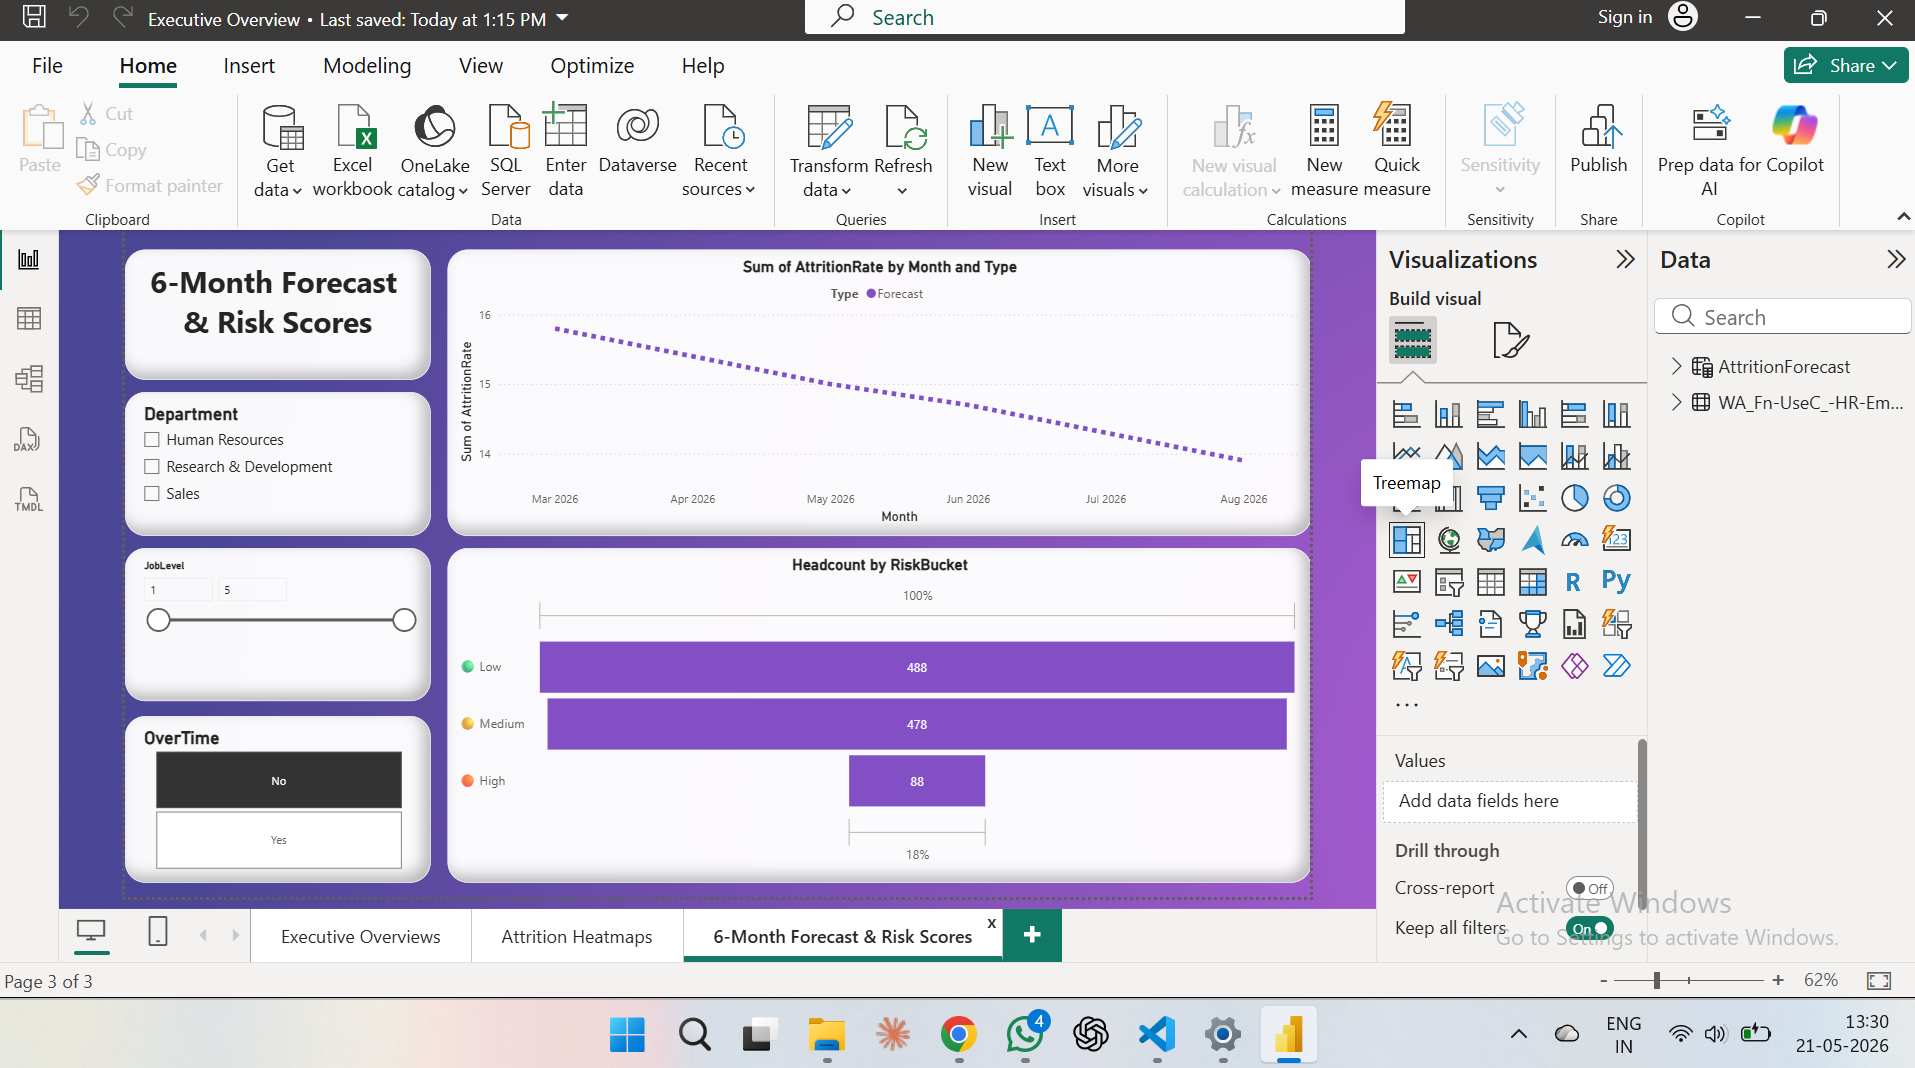

The dashboard page shown, as its layout file describes it:
{"tool":"powerbi","page":{"name":"6-Month Forecast & Risk Scores","canvas":[1280,720],"ordinal":2},"visuals":[{"type":"lineChart","fields":{"Category":["AttritionForecast.Month"],"Y":["Sum(AttritionForecast.AttritionRate)"],"Series":["AttritionForecast.Type"]},"box":[348.1,21,932.7,309.3],"z":0},{"type":"funnel","fields":{"Y":["WA_Fn-UseC_-HR-Employee-Attrition.Headcount"],"Category":["WA_Fn-UseC_-HR-Employee-Attrition.RiskBucket"]},"box":[348.1,343.3,932.7,361.1],"z":1000},{"type":"slicer","fields":{"Values":["WA_Fn-UseC_-HR-Employee-Attrition.Department"]},"box":[0,174.9,330.3,155.4],"z":2000},{"type":"slicer","fields":{"Values":["WA_Fn-UseC_-HR-Employee-Attrition.JobLevel"]},"box":[0,343.3,330.3,165.2],"z":3000},{"type":"slicer","fields":{"Values":["WA_Fn-UseC_-HR-Employee-Attrition.OverTime"]},"box":[0,524.6,330.3,179.7],"z":4000},{"type":"textbox","box":[0,21,330.3,140.9],"z":4001}]}

Visuals, with their boxes on the page's 1280x720 design canvas (x1, y1, x2, y2). These are canvas units, not pixel positions in the 1915x1068 screenshot, which may show the page scaled, cropped or inside an application window:
lineChart - AttritionForecast.Month x Sum(AttritionForecast.AttritionRate): (left=348, top=21, right=1281, bottom=330)
funnel - WA_Fn-UseC_-HR-Employee-Attrition.Headcount x WA_Fn-UseC_-HR-Employee-Attrition.RiskBucket: (left=348, top=343, right=1281, bottom=704)
slicer - WA_Fn-UseC_-HR-Employee-Attrition.Department: (left=0, top=175, right=330, bottom=330)
slicer - WA_Fn-UseC_-HR-Employee-Attrition.JobLevel: (left=0, top=343, right=330, bottom=508)
slicer - WA_Fn-UseC_-HR-Employee-Attrition.OverTime: (left=0, top=525, right=330, bottom=704)
textbox: (left=0, top=21, right=330, bottom=162)
